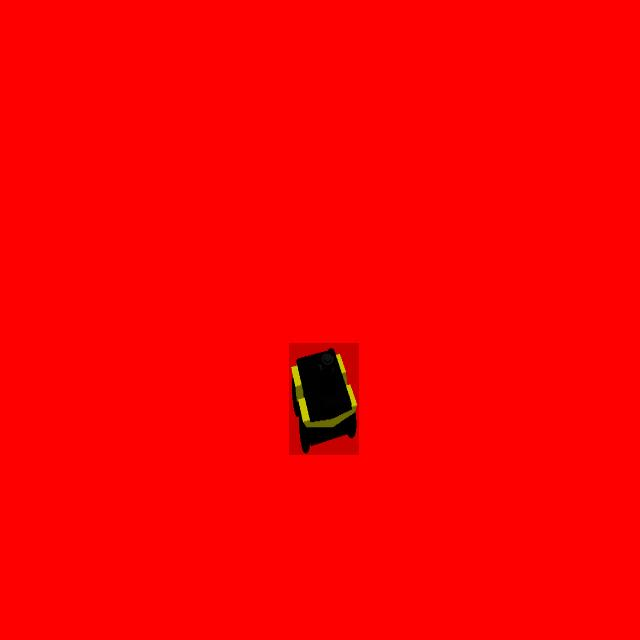jackal: (290, 344, 360, 456)
